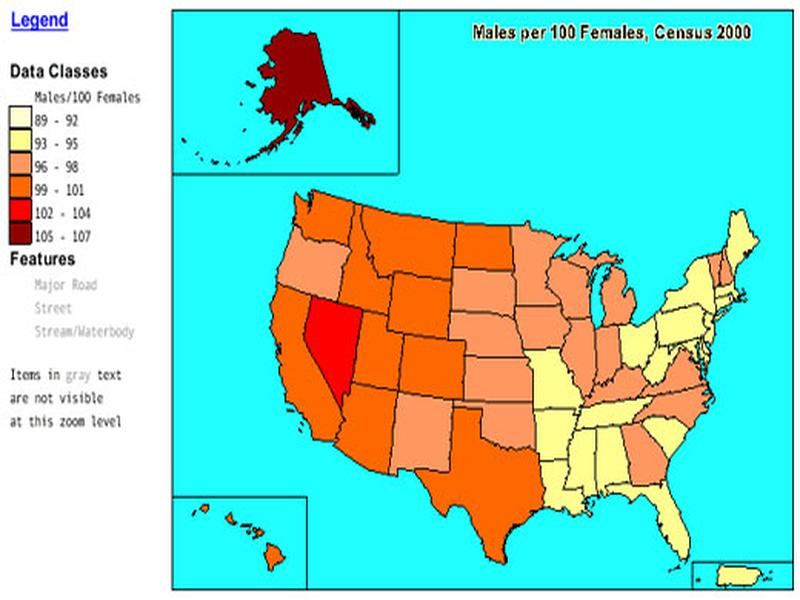legend: (7, 9, 142, 249)
